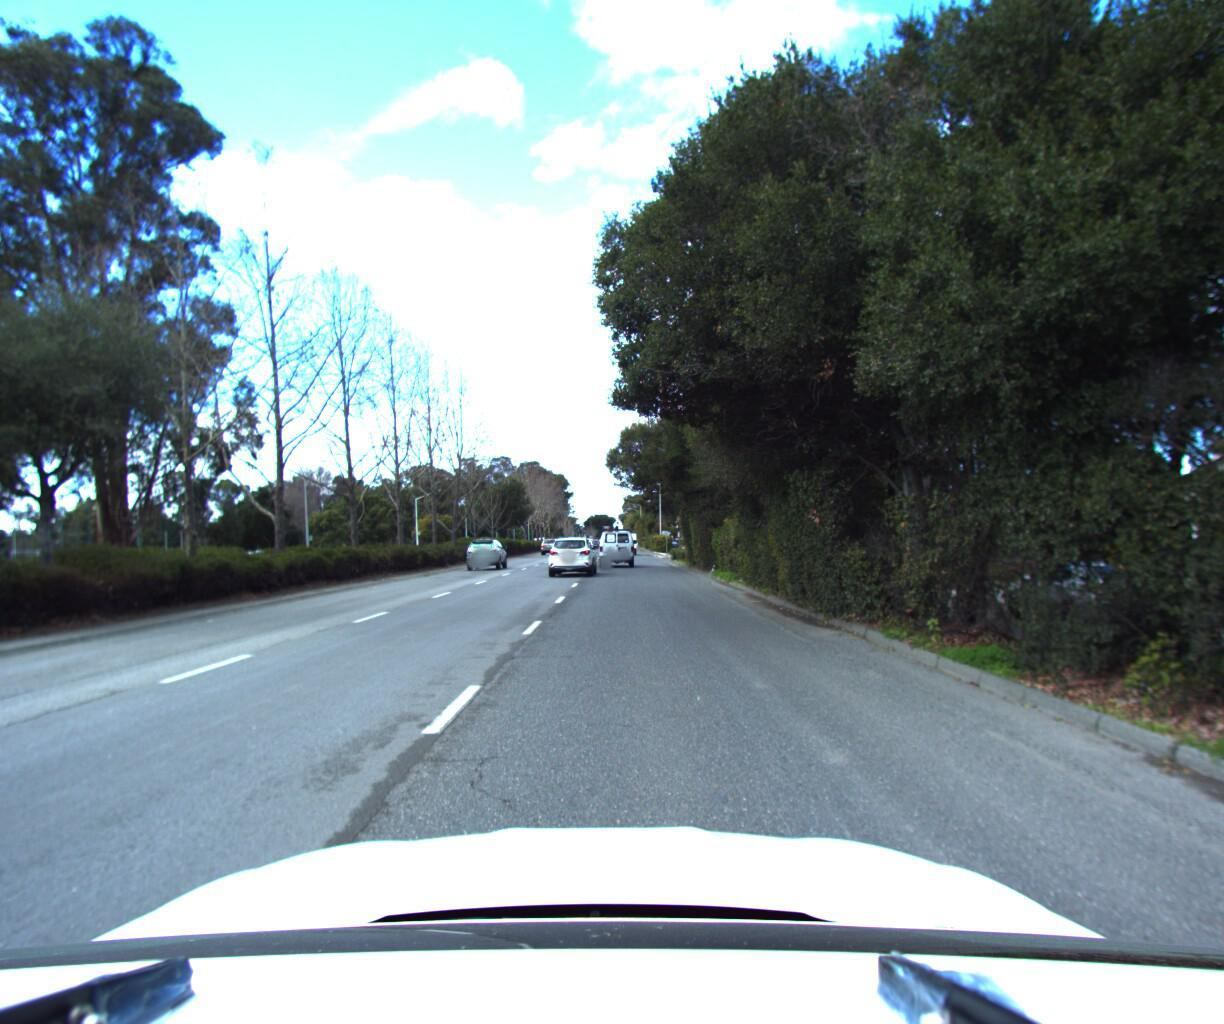car: (545, 534, 600, 580), (598, 524, 641, 570), (464, 539, 511, 574), (540, 540, 564, 557)
